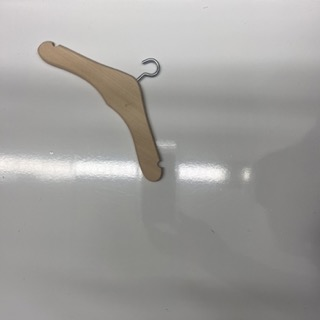rack: (38, 41, 164, 182)
